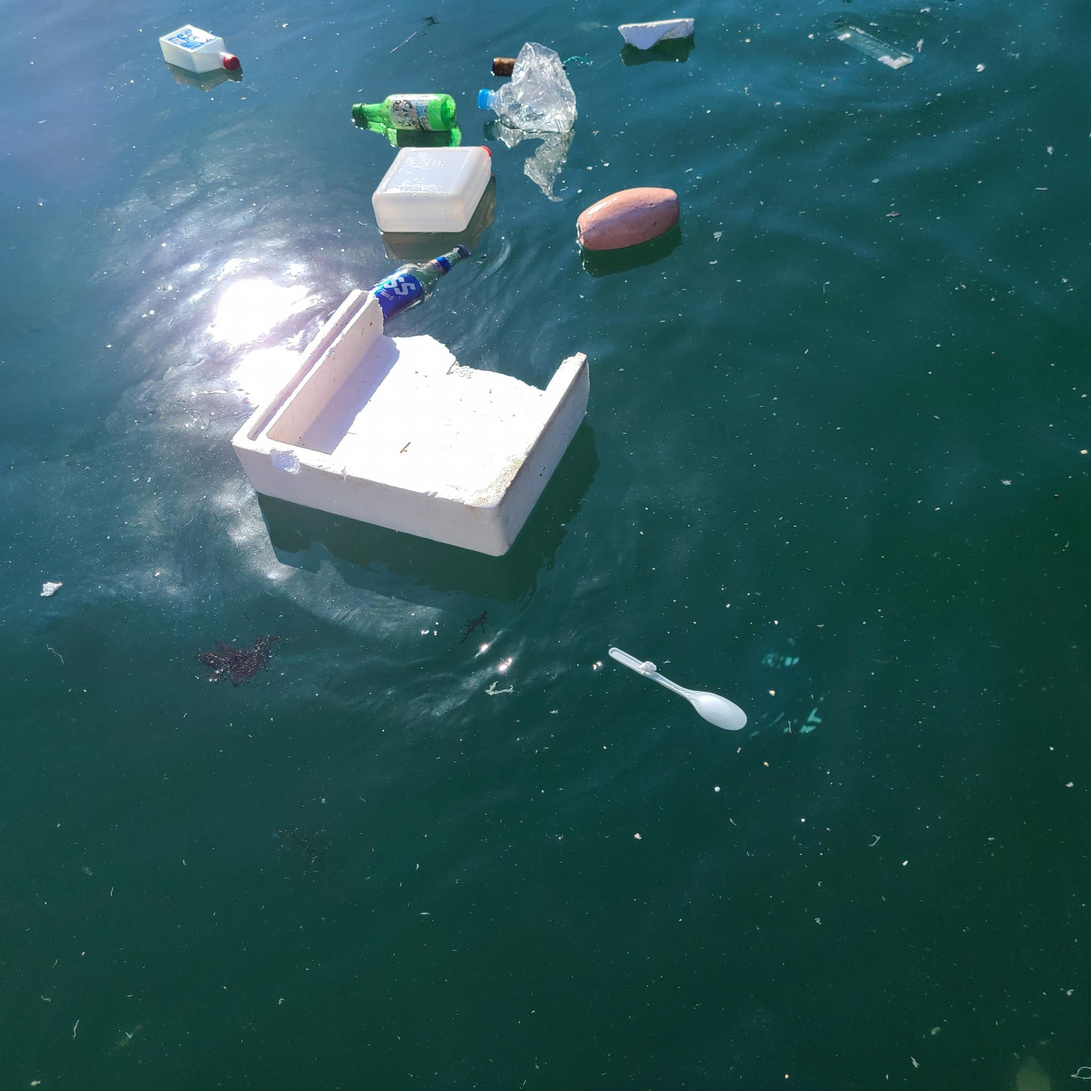sampah_terapung: (233, 289, 591, 557), (372, 145, 492, 233), (478, 43, 577, 133), (369, 245, 469, 321), (577, 188, 680, 250), (159, 25, 240, 75), (353, 95, 457, 132), (618, 18, 695, 50), (493, 58, 566, 77), (41, 582, 61, 597)
